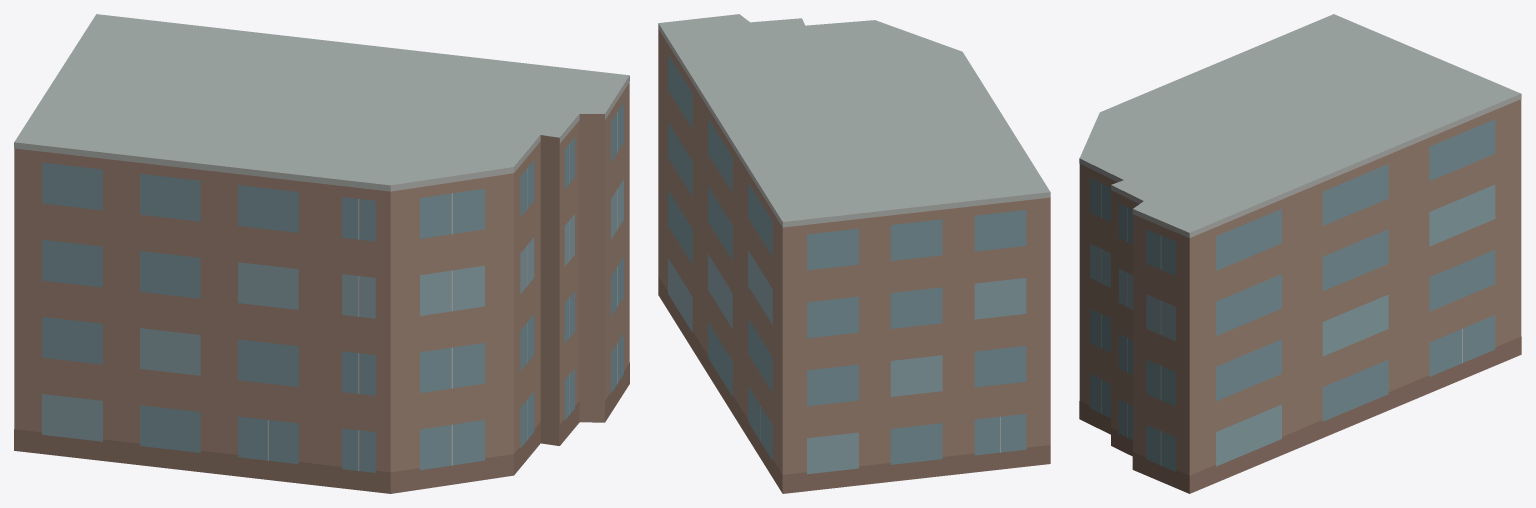
Rendered from residential-f6874945-d2ea-496b-920a-1d6273cd3e58.glb.
3 renders of one model, left to right at view 1: azimuth 30°, elevation 25°; view 2: azimuth 150°, elevation 25°; view 3: azimuth 270°, elevation 25°, orthographic. The views are drawn at different scales.
Visible parts, largest first — view 1: residential-f6874945-d2ea-496b-920a-1d6273cd3e58.tmp; view 2: residential-f6874945-d2ea-496b-920a-1d6273cd3e58.tmp; view 3: residential-f6874945-d2ea-496b-920a-1d6273cd3e58.tmp.
Boxes of the visible parts, x1,y1,x2,y2 form: residential-f6874945-d2ea-496b-920a-1d6273cd3e58.tmp: (14, 14, 629, 493); residential-f6874945-d2ea-496b-920a-1d6273cd3e58.tmp: (658, 14, 1050, 493); residential-f6874945-d2ea-496b-920a-1d6273cd3e58.tmp: (1079, 14, 1521, 493).
Bounding box in the file's own units: 21.96 × 12.2 × 18.73.
